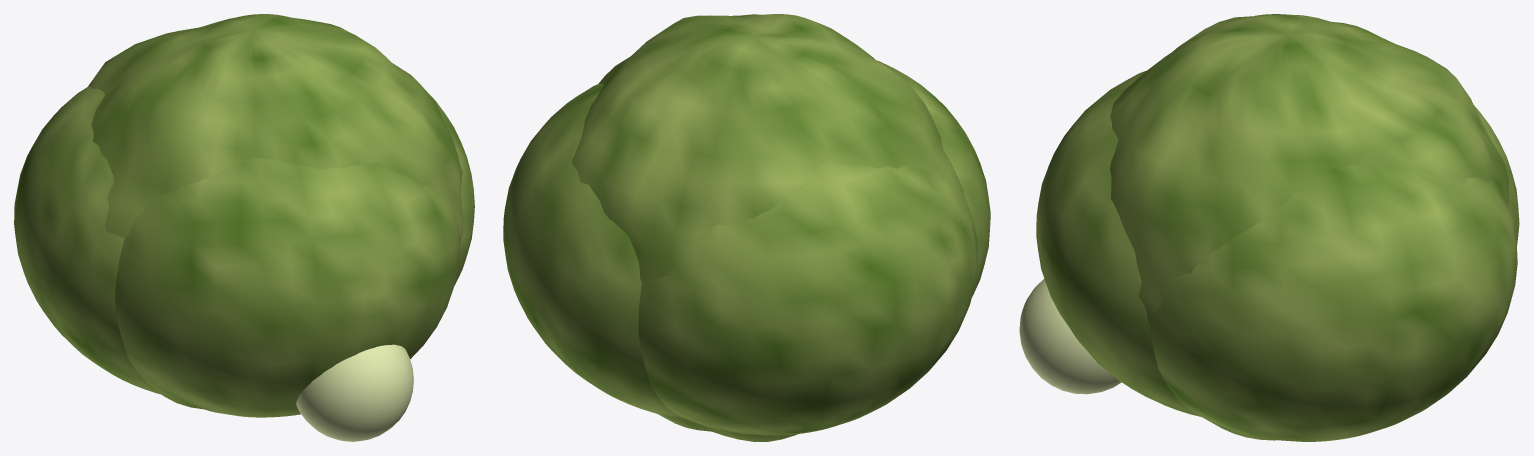
File: rosenkohl.glb
3 views of the same model, side by side, from view 1: azimuth 30°, elevation 25°; view 2: azimuth 150°, elevation 25°; view 3: azimuth 270°, elevation 25° (orthographic). The views are drawn at different scales.
Visible parts, largest first — view 1: p0; view 2: p0; view 3: p0.
Part boxes in pixels (x1,y1,x2,y2): p0: [14, 14, 474, 441]; p0: [503, 14, 990, 441]; p0: [1019, 14, 1519, 441].
Size of the model in its own units: 0.0267 by 0.0233 by 0.0269.
